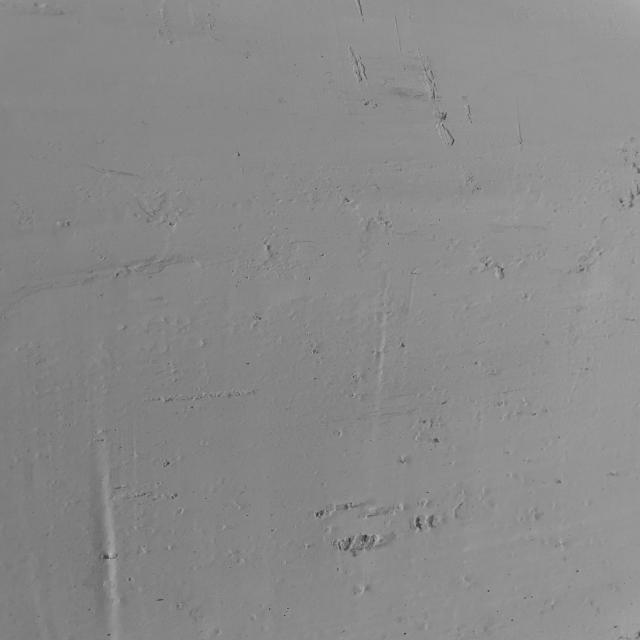rough and patchy surface: (18, 10, 618, 632)
